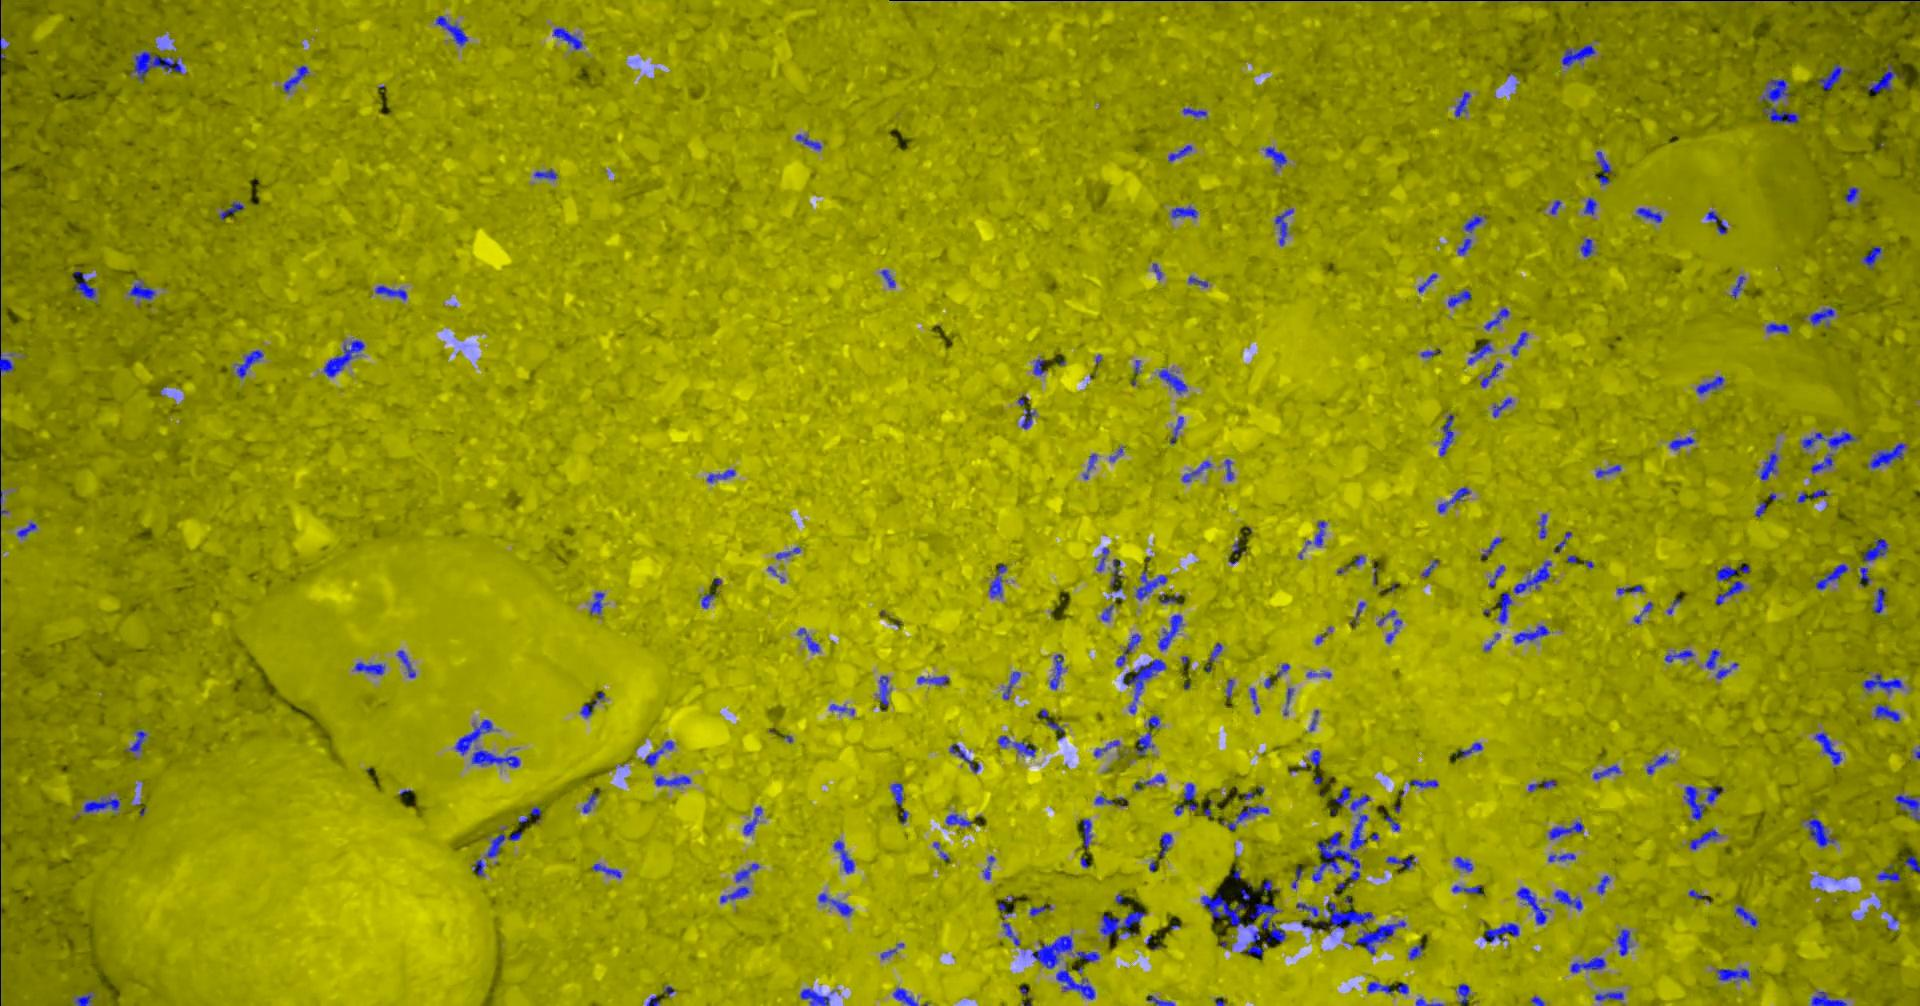ant: (1123, 658, 1164, 713), (1200, 888, 1251, 927), (1355, 920, 1404, 954), (132, 51, 182, 83), (323, 339, 364, 376), (1250, 902, 1285, 945), (1683, 785, 1723, 821), (1326, 901, 1371, 931), (1030, 935, 1072, 968), (1055, 964, 1095, 998), (455, 719, 491, 754), (1516, 887, 1550, 923), (1512, 560, 1550, 593), (1098, 909, 1145, 936), (1225, 805, 1269, 829), (1865, 442, 1905, 467), (1865, 64, 1901, 91), (1801, 431, 1857, 448), (471, 747, 519, 767), (1135, 715, 1159, 754), (436, 15, 467, 44), (1135, 570, 1167, 600), (486, 831, 521, 857), (1158, 614, 1182, 650), (949, 744, 980, 772), (1817, 64, 1850, 90), (1815, 563, 1848, 589), (817, 892, 852, 916), (1806, 817, 1834, 847), (1815, 732, 1841, 763), (1115, 633, 1140, 666), (1862, 673, 1902, 694), (234, 349, 263, 377), (1437, 486, 1469, 512), (997, 735, 1036, 756), (1377, 608, 1401, 641), (643, 741, 673, 766), (1173, 782, 1196, 815), (1561, 44, 1595, 66), (1482, 922, 1517, 942), (833, 840, 855, 873), (282, 65, 309, 91), (71, 271, 97, 298), (1274, 208, 1293, 245), (1512, 624, 1549, 643), (1548, 821, 1583, 840), (1158, 368, 1186, 392), (1716, 580, 1743, 605), (552, 27, 582, 50), (1181, 460, 1211, 481), (579, 691, 604, 716), (1895, 794, 1919, 821), (1761, 79, 1789, 102), (1467, 340, 1492, 365), (1862, 537, 1887, 561), (1763, 107, 1799, 123), (1689, 829, 1719, 848), (1481, 361, 1502, 387), (1439, 414, 1453, 455), (1554, 889, 1582, 909), (1595, 150, 1611, 184), (83, 796, 119, 812), (796, 627, 819, 652), (1483, 307, 1509, 329), (989, 564, 1006, 597), (1716, 564, 1749, 580), (1697, 375, 1723, 395), (1570, 956, 1605, 972), (1810, 991, 1846, 1005), (1305, 520, 1324, 546), (396, 650, 415, 677), (1243, 929, 1262, 955), (1205, 641, 1222, 672), (799, 988, 829, 1005), (1049, 653, 1063, 688), (1002, 671, 1020, 699), (743, 807, 761, 835), (1705, 210, 1727, 232), (1735, 904, 1757, 926), (1496, 591, 1511, 622), (1874, 702, 1900, 721), (1133, 774, 1164, 789), (1002, 916, 1018, 945), (128, 281, 155, 298), (1759, 452, 1777, 479), (124, 730, 146, 752), (719, 887, 749, 902), (218, 201, 243, 220), (1646, 754, 1670, 774), (735, 862, 759, 882), (1876, 862, 1900, 882), (891, 987, 917, 1005), (1385, 854, 1415, 869), (375, 285, 406, 298), (795, 133, 822, 150), (1265, 146, 1286, 166), (1862, 245, 1881, 268), (1810, 453, 1832, 473), (1810, 307, 1834, 325), (1592, 763, 1620, 779), (590, 862, 621, 876), (1093, 739, 1119, 756), (1716, 968, 1749, 981), (1481, 537, 1501, 558), (1463, 213, 1484, 232), (1633, 601, 1652, 622), (354, 661, 383, 674), (1510, 332, 1528, 354), (1455, 742, 1482, 757), (654, 775, 690, 786), (1454, 91, 1470, 116), (1167, 145, 1191, 161), (1636, 207, 1661, 222), (1417, 273, 1437, 292), (1797, 489, 1827, 502), (1553, 531, 1571, 553), (1448, 290, 1470, 306), (1171, 205, 1197, 218), (1170, 417, 1183, 443), (1870, 587, 1884, 614), (1617, 929, 1630, 955), (1492, 398, 1511, 417), (1669, 436, 1694, 450), (1595, 464, 1620, 478), (706, 469, 734, 481), (1488, 564, 1503, 587), (589, 591, 604, 614), (1335, 785, 1351, 805), (1663, 649, 1693, 661), (1083, 453, 1096, 479), (1731, 276, 1745, 298), (1109, 558, 1120, 586), (879, 674, 888, 710), (582, 793, 598, 812), (1350, 794, 1369, 810), (1081, 818, 1091, 848), (1096, 547, 1109, 572), (982, 855, 994, 879), (1368, 982, 1392, 995), (945, 814, 971, 826), (1705, 648, 1719, 669), (1594, 989, 1623, 1000), (1145, 995, 1175, 1005), (1421, 559, 1437, 577), (916, 676, 949, 685), (17, 522, 36, 537), (775, 546, 800, 558), (829, 702, 855, 714), (1159, 832, 1171, 857), (1297, 902, 1317, 916), (1451, 885, 1483, 894), (533, 168, 557, 179), (1457, 983, 1469, 1005), (1407, 942, 1423, 959), (880, 269, 895, 287), (1617, 584, 1643, 594), (1454, 856, 1472, 871), (0, 354, 14, 373), (1021, 408, 1034, 428), (1903, 855, 1919, 871), (1844, 185, 1858, 203), (1410, 779, 1437, 788), (1547, 852, 1575, 861), (890, 782, 902, 804), (1580, 238, 1592, 257), (1766, 323, 1789, 333), (1384, 815, 1399, 831), (1257, 879, 1277, 890), (1029, 904, 1051, 915), (1076, 951, 1098, 962), (1457, 238, 1470, 254), (1583, 197, 1596, 215), (1537, 513, 1545, 539), (1250, 687, 1258, 713), (1596, 875, 1609, 893), (74, 992, 91, 1005), (1182, 108, 1206, 117), (1754, 500, 1766, 517), (1100, 605, 1112, 621), (1158, 593, 1178, 603), (472, 859, 484, 876), (1189, 276, 1208, 286), (1859, 567, 1869, 586), (701, 593, 714, 608), (1224, 459, 1233, 480), (1032, 358, 1044, 375), (1309, 749, 1321, 765), (1095, 795, 1112, 804), (530, 807, 540, 822), (1716, 668, 1730, 678), (1823, 0, 1898, 1)
